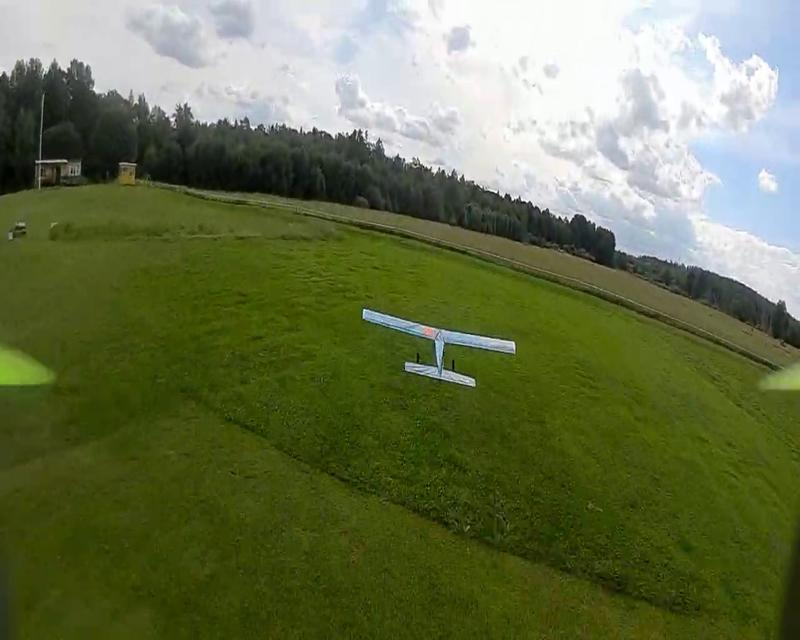UAV: (360, 305, 517, 388)
